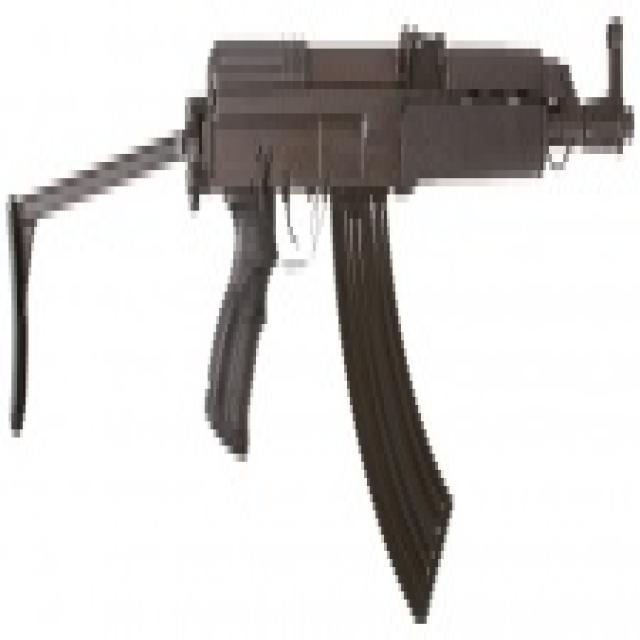rifle: (1, 1, 635, 633)
